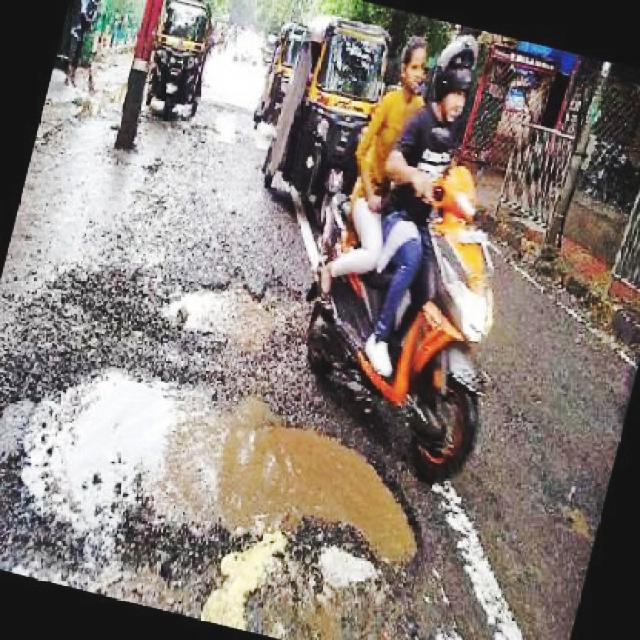pothole: (9, 350, 431, 576), (152, 271, 317, 354), (552, 488, 600, 549)
